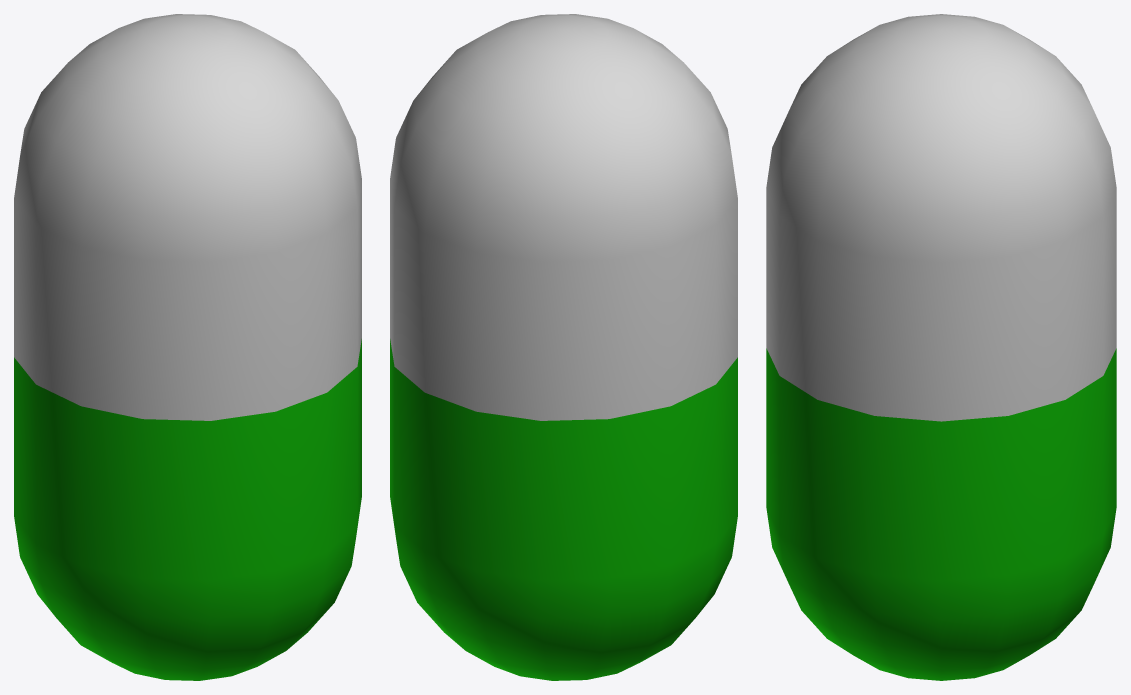
Rendered from Pills.glb.
3 views of the same model, side by side, from view 1: azimuth 30°, elevation 25°; view 2: azimuth 150°, elevation 25°; view 3: azimuth 270°, elevation 25° (orthographic).
Visible parts, largest first — view 1: Green_Pill; view 2: Green_Pill; view 3: Green_Pill.
Part boxes in pixels (bbox=[...]): Green_Pill: bbox=[14, 14, 361, 680]; Green_Pill: bbox=[390, 14, 737, 680]; Green_Pill: bbox=[766, 14, 1116, 680].
Bounding box in the file's own units: 2 × 4 × 2.
1 material, 1 textured.
